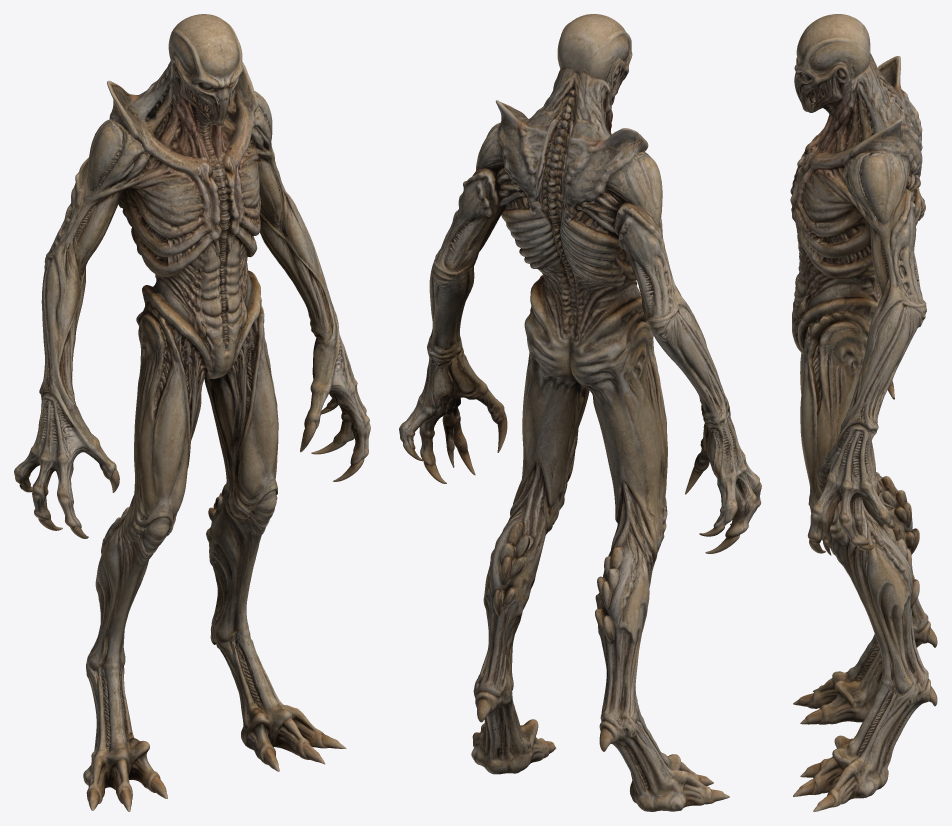
The model's file is preview.glb.
3 renders of one model, left to right at view 1: azimuth 30°, elevation 25°; view 2: azimuth 150°, elevation 25°; view 3: azimuth 270°, elevation 25°, orthographic. The views are drawn at different scales.
Parts seen in each view (by area): view 1: horror-monster; view 2: horror-monster; view 3: horror-monster.
Part boxes in pixels (x1,y1,x2,y2): horror-monster: [14, 14, 370, 811]; horror-monster: [399, 14, 761, 811]; horror-monster: [790, 14, 937, 811].
Size of the model in its own units: 1.02 by 2.2 by 0.4001.
1 material, 1 textured.
